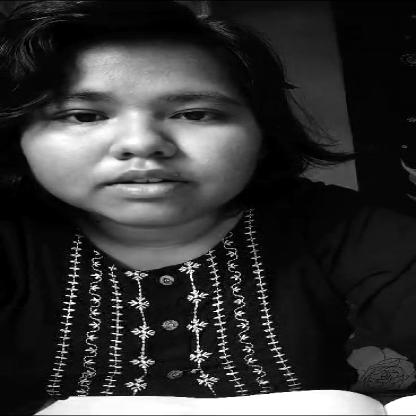Normal: (7, 20, 289, 215)
